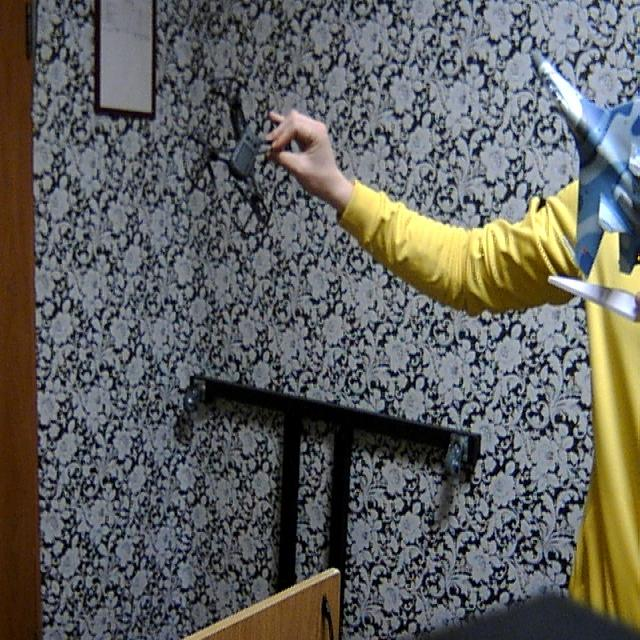drone: (174, 63, 320, 247)
